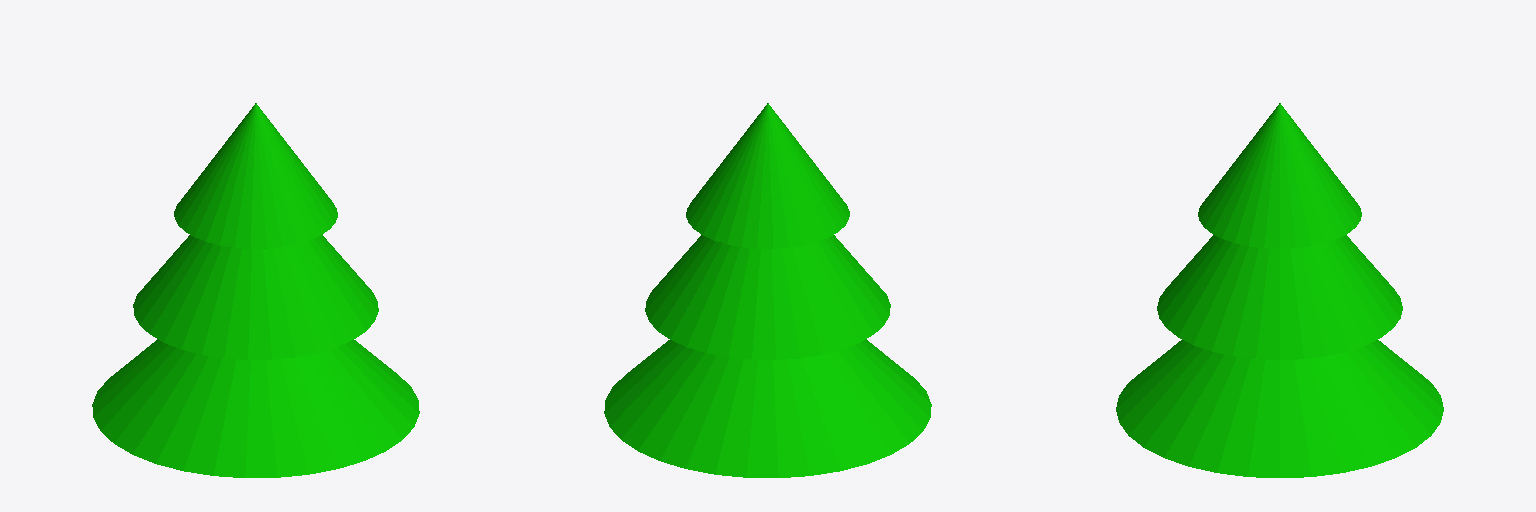
The model's file is TreeTop.obj.
3 renders of one model, left to right at view 1: azimuth 30°, elevation 25°; view 2: azimuth 150°, elevation 25°; view 3: azimuth 270°, elevation 25°, orthographic.
Visible parts, largest first — view 1: Cone, Cone.001, Cone.002; view 2: Cone, Cone.001, Cone.002; view 3: Cone, Cone.001, Cone.002.
Part boxes in pixels (x1,y1,x2,y2): Cone: (92, 339, 419, 477); Cone.001: (133, 235, 378, 359); Cone.002: (174, 103, 337, 248); Cone: (604, 339, 931, 477); Cone.001: (645, 235, 890, 359); Cone.002: (686, 103, 849, 248); Cone: (1116, 340, 1443, 477); Cone.001: (1157, 235, 1402, 359); Cone.002: (1198, 103, 1361, 248).
Size of the model in its own units: 4 by 4.12 by 4.